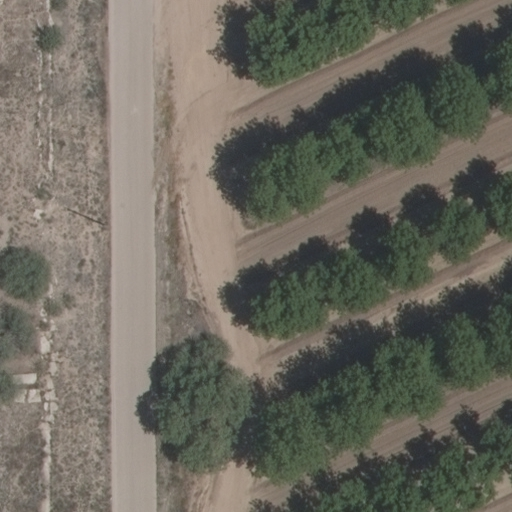DT: (95, 216, 111, 233)
